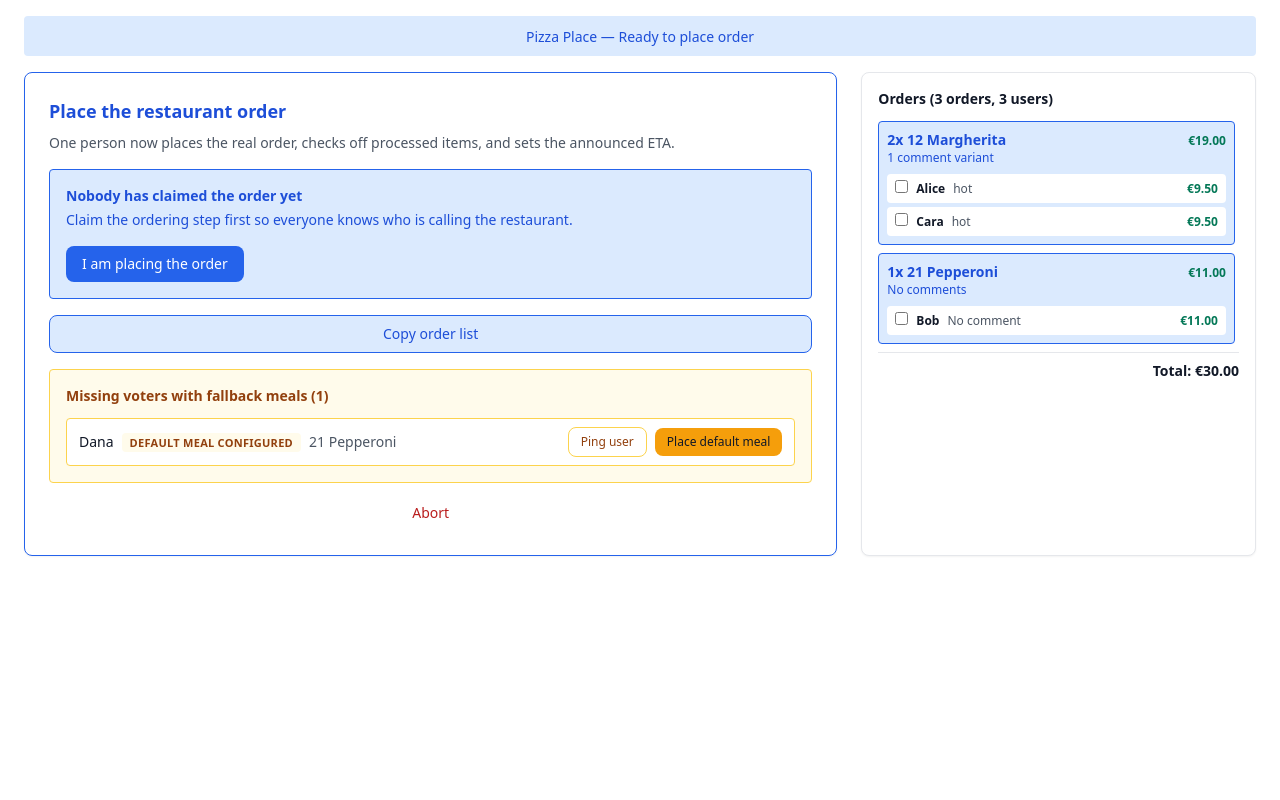
it: FoodSelectionOrderingView › pings a fallback candidate and labels the row as a default meal
Expected: the text "Default meal configured" is shown, [122,432,301,452]
Click the button "Ping user" at [607, 442], box [568,427,647,457]
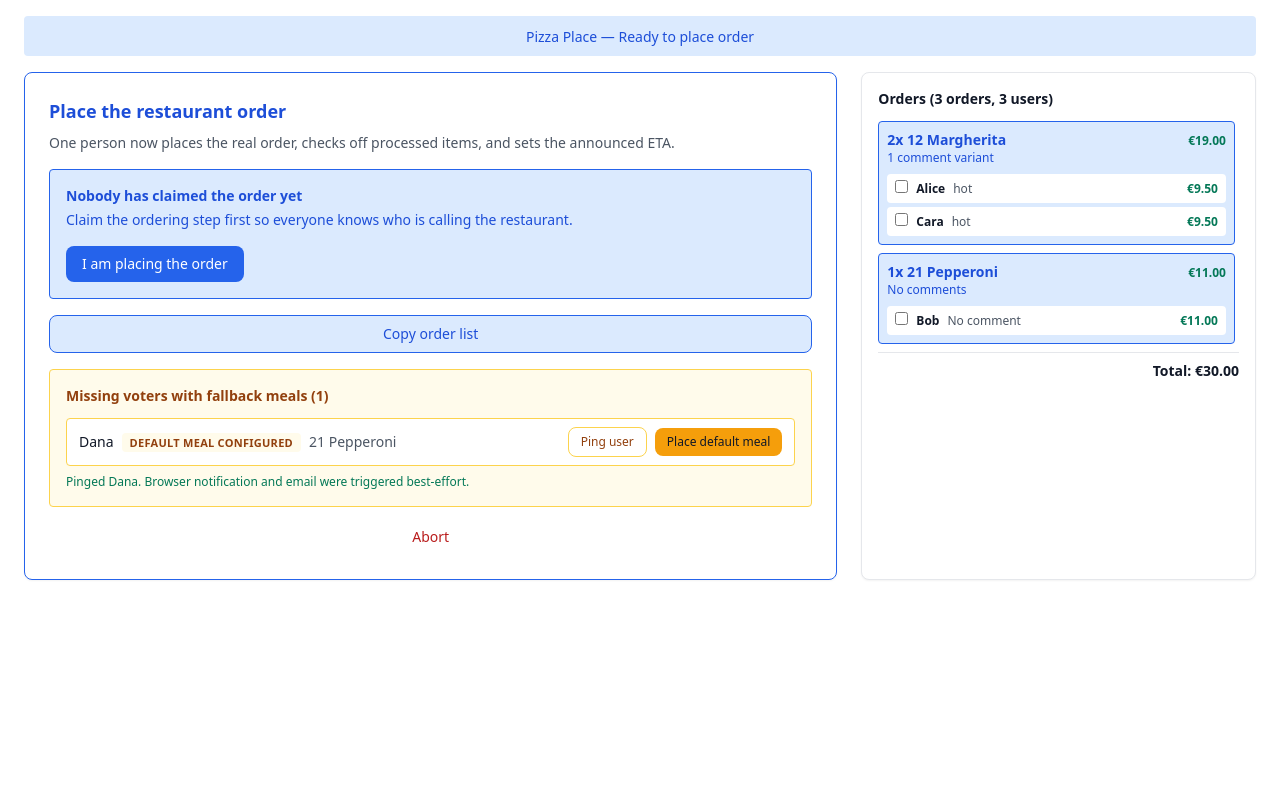
Expected: the text "Pinged Dana. Browser notification and email were triggered best-effort." is shown, [66,473,469,490]
